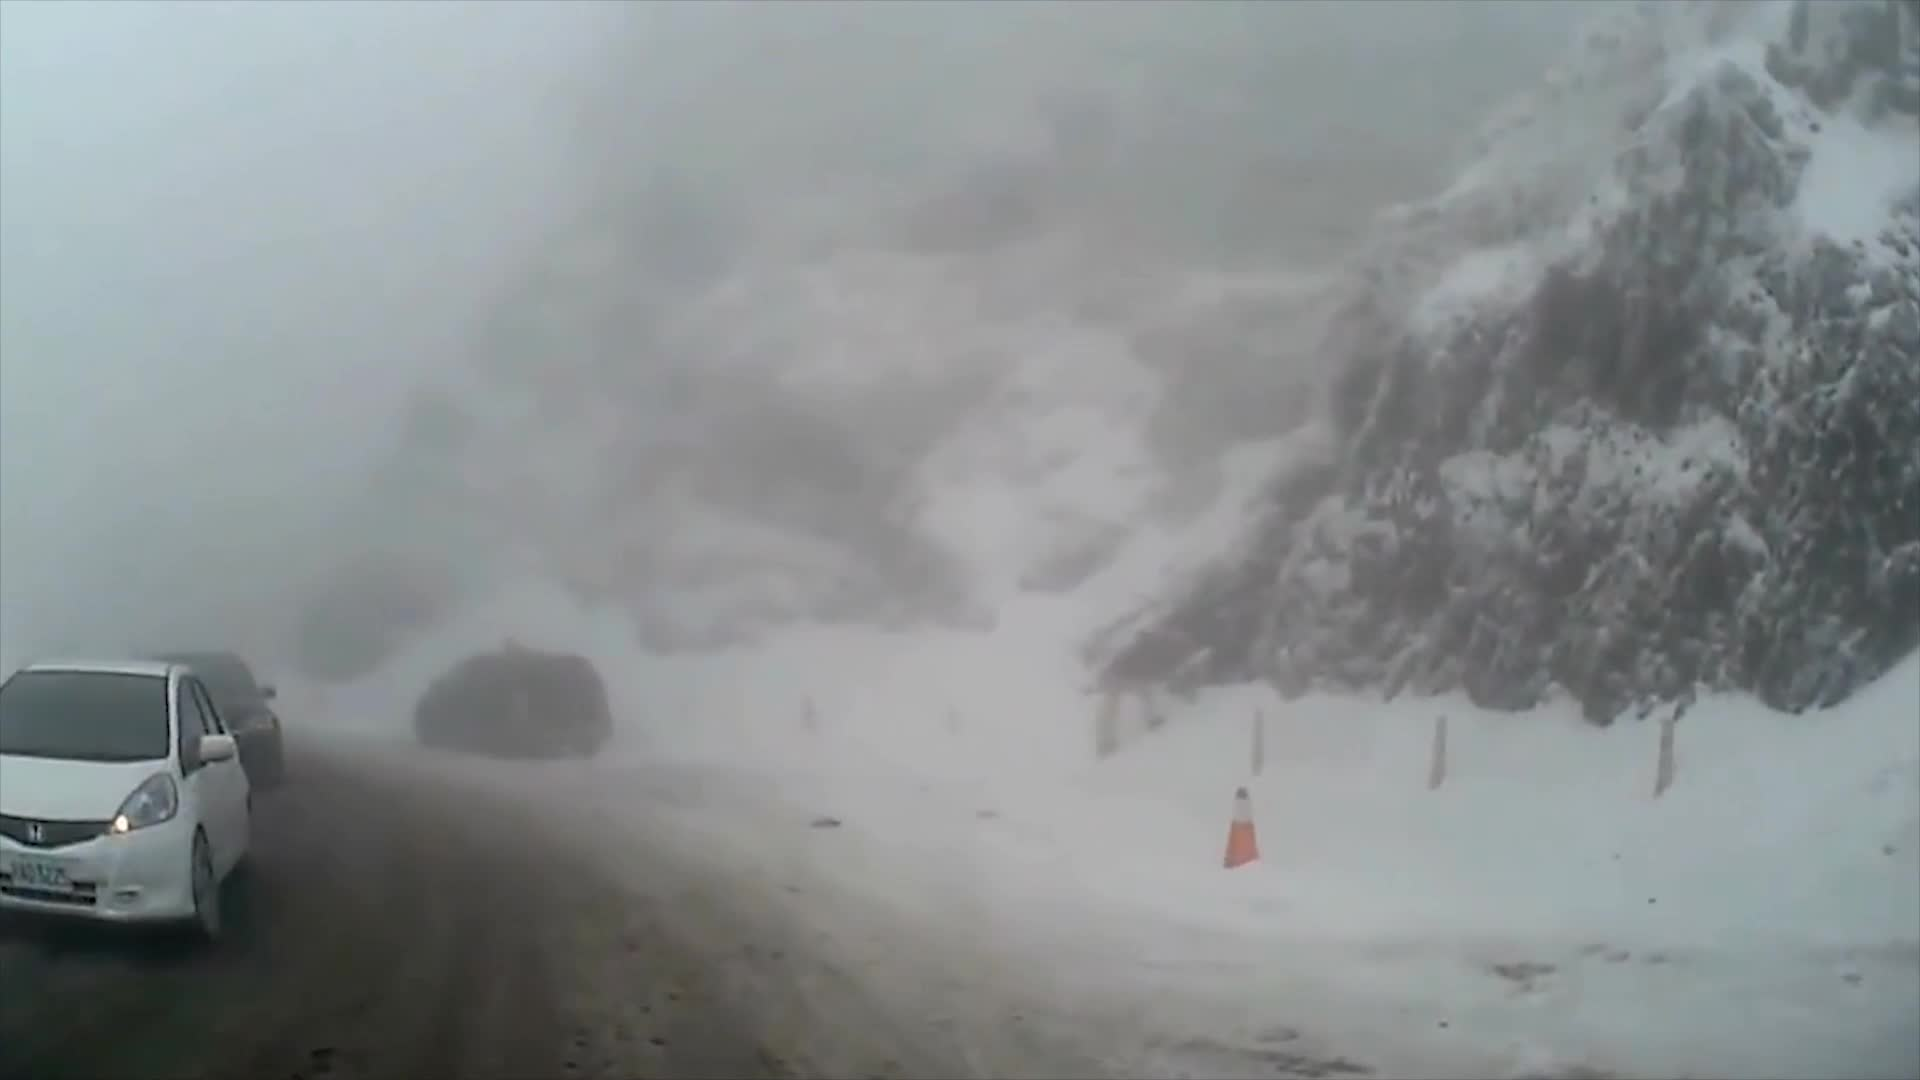vehicle: (0, 654, 258, 945), (415, 650, 613, 761)
